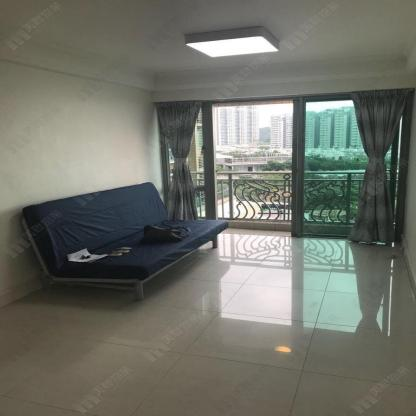Sofa: (20, 181, 229, 300)
